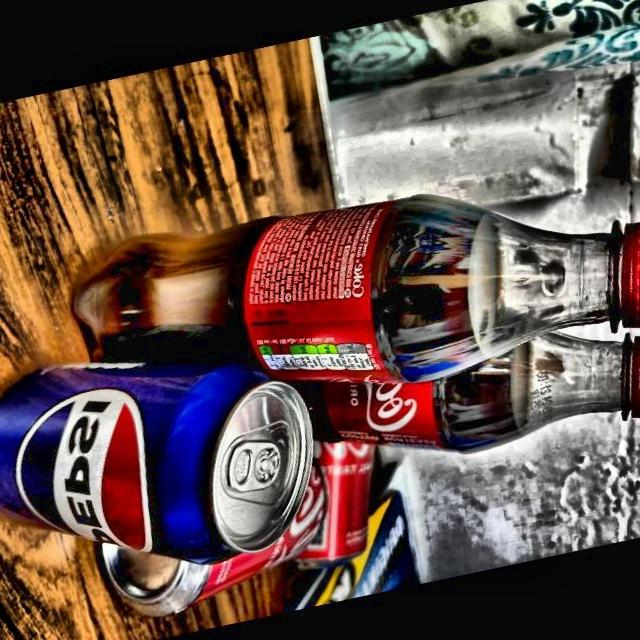coke-bottle: (76, 197, 640, 394), (304, 300, 640, 439)
coke-can: (87, 496, 297, 604), (302, 412, 380, 565)
pepsi-can: (0, 369, 307, 551)
